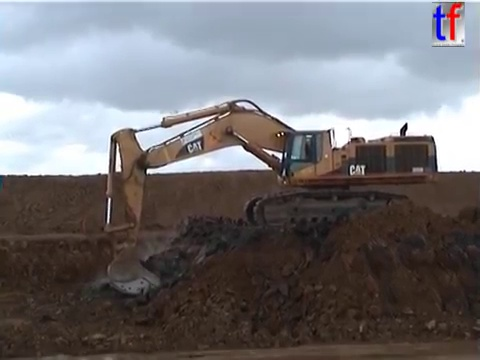excavator: (100, 96, 440, 298)
